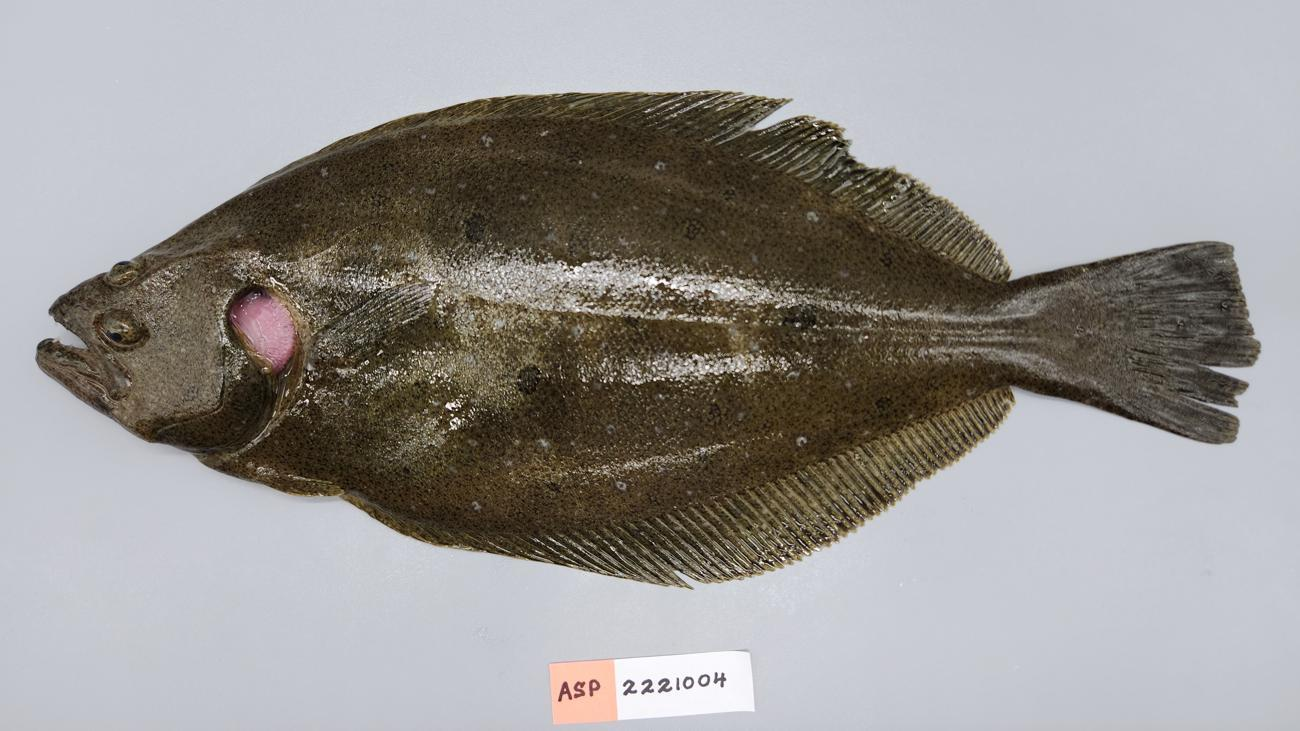SPDYH: (461, 379, 681, 443)
SPOUY: (21, 84, 1268, 599)
